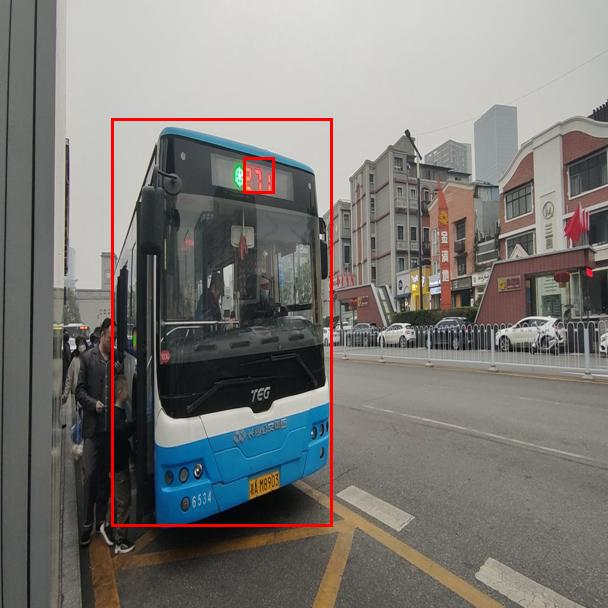bus: (111, 118, 332, 526)
screen: (243, 157, 274, 193)
